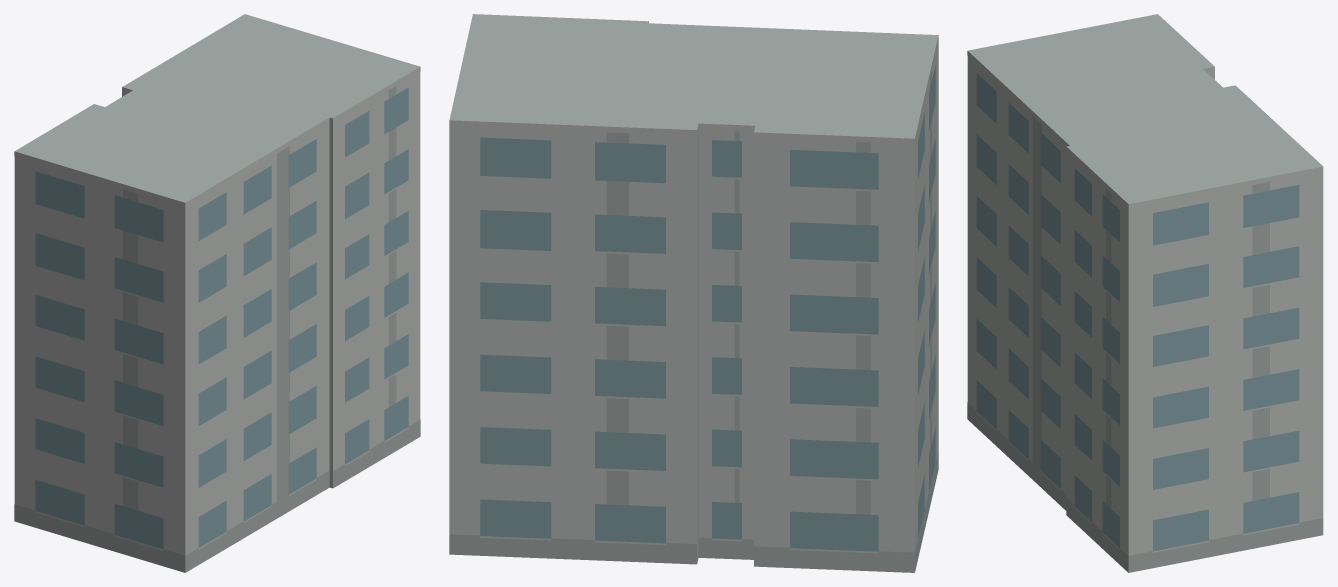
The model's file is survey-upis-32936877.glb.
3 views of the same model, side by side, from view 1: azimuth 30°, elevation 25°; view 2: azimuth 150°, elevation 25°; view 3: azimuth 270°, elevation 25° (orthographic). The views are drawn at different scales.
Parts seen in each view (by area): view 1: survey-upis-32936877.tmp; view 2: survey-upis-32936877.tmp; view 3: survey-upis-32936877.tmp.
Part boxes in pixels (x1,y1,x2,y2): survey-upis-32936877.tmp: [14, 14, 420, 572]; survey-upis-32936877.tmp: [449, 14, 938, 572]; survey-upis-32936877.tmp: [967, 14, 1323, 572].
Size of the model in its own units: 20.26 by 18.3 by 16.02.
